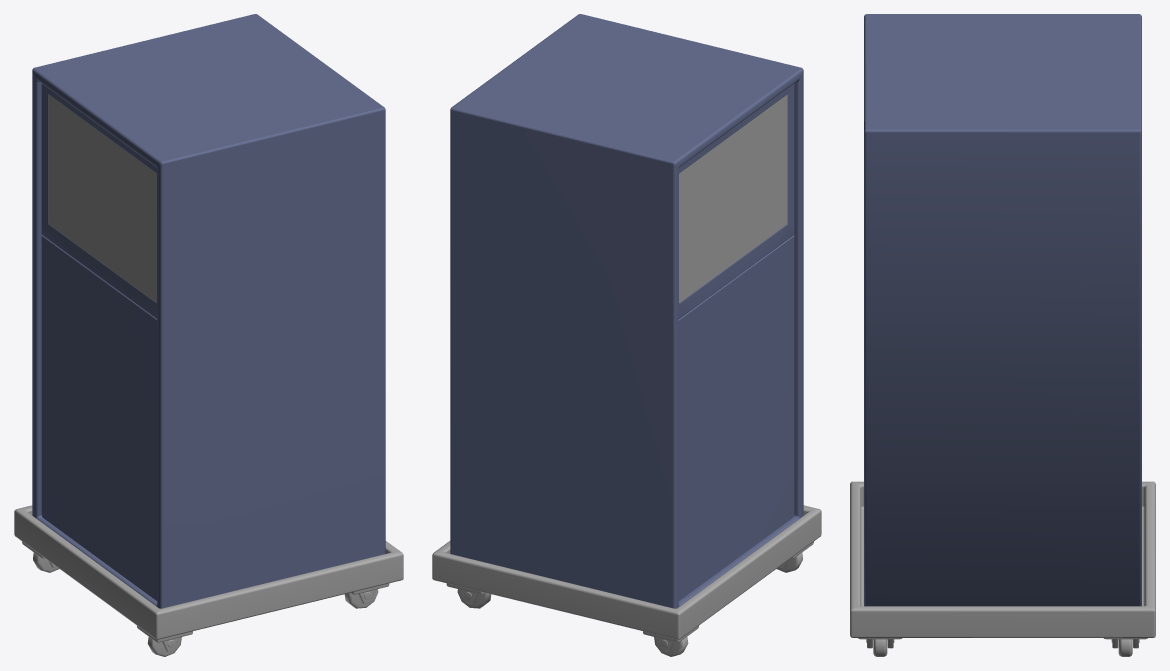
Rendered from SovietComp.fbx.
The picture shows the model from 3 angles, left to right: view 1: azimuth 30°, elevation 25°; view 2: azimuth 150°, elevation 25°; view 3: azimuth 270°, elevation 25°; orthographic projection. The views are drawn at different scales.
Parts seen in each view (by area): view 1: SovietComp, Glass, Platform; view 2: SovietComp, Glass, Platform; view 3: SovietComp, Platform.
Boxes of the visible parts, x1,y1,x2,y2 form: SovietComp: (32,14,385,608); Glass: (48,94,156,302); Platform: (14,505,403,656); SovietComp: (450,14,803,608); Glass: (679,94,787,302); Platform: (432,505,821,656); SovietComp: (864,14,1141,606); Platform: (850,481,1155,656).
Size of the model in its own units: 110 by 212 by 110.
